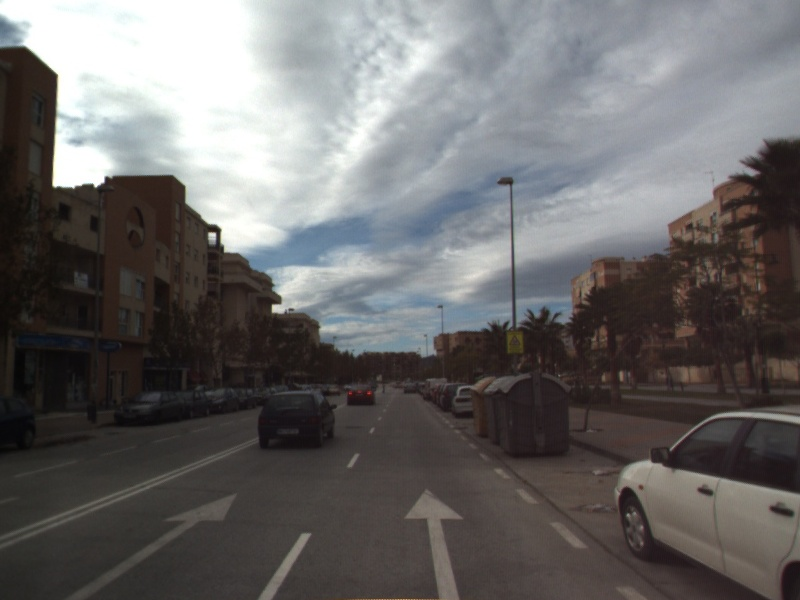STRAIGHT: (60, 491, 240, 600), (401, 486, 468, 600)
